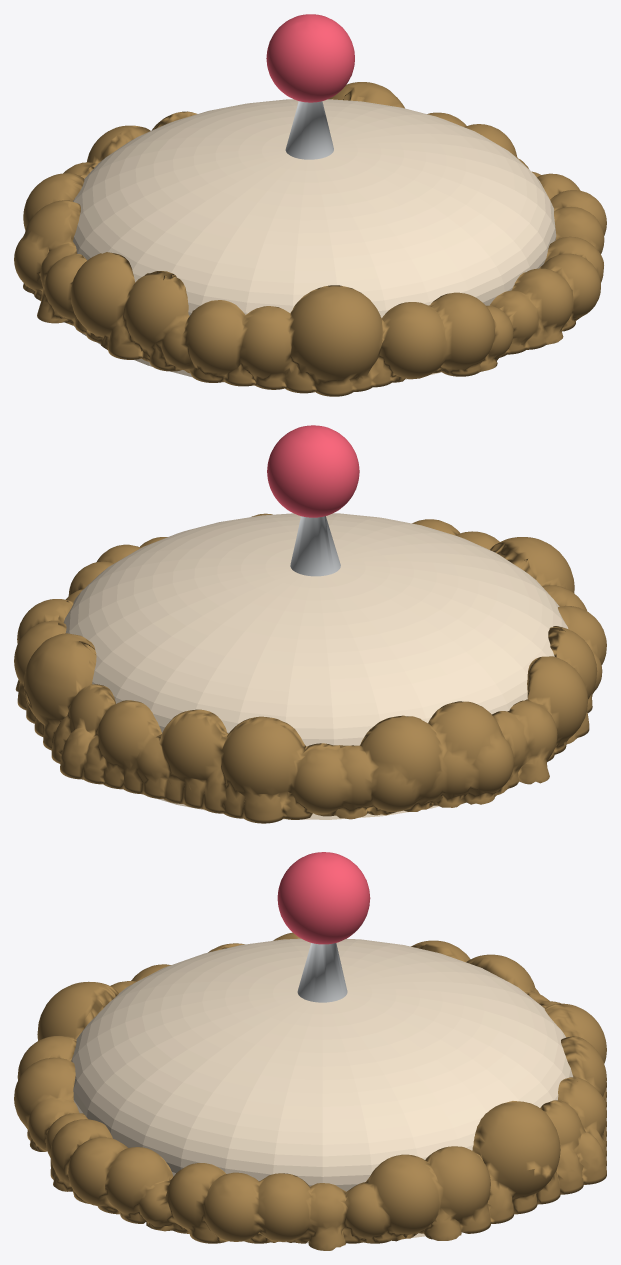
File: potato_small.fbx
3 views of the same model, one above another, from view 1: azimuth 30°, elevation 25°; view 2: azimuth 150°, elevation 25°; view 3: azimuth 270°, elevation 25° (orthographic). The views are drawn at different scales.
Parts seen in each view (by area): view 1: potato_mine; view 2: potato_mine; view 3: potato_mine.
Boxes of the visible parts, x1,y1,x2,y2 form: potato_mine: (14, 14, 606, 396); potato_mine: (14, 425, 606, 823); potato_mine: (14, 852, 606, 1250).
Bounding box in the file's own units: 5180 × 2609 × 5116.
